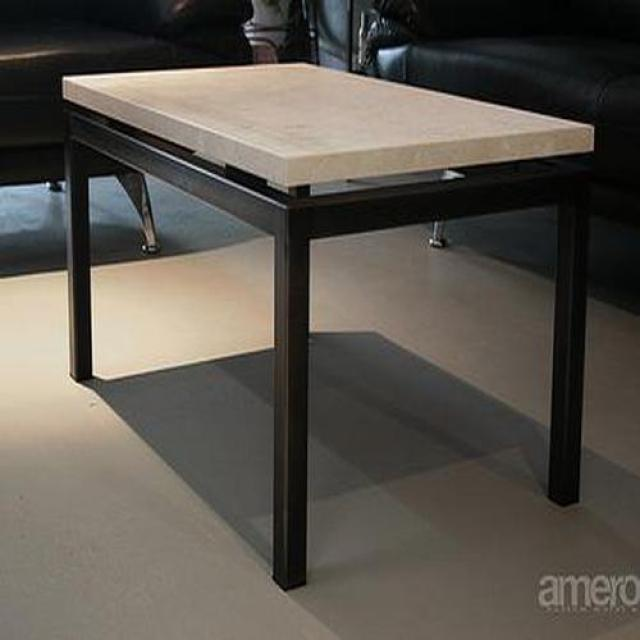table: (60, 64, 596, 593)
